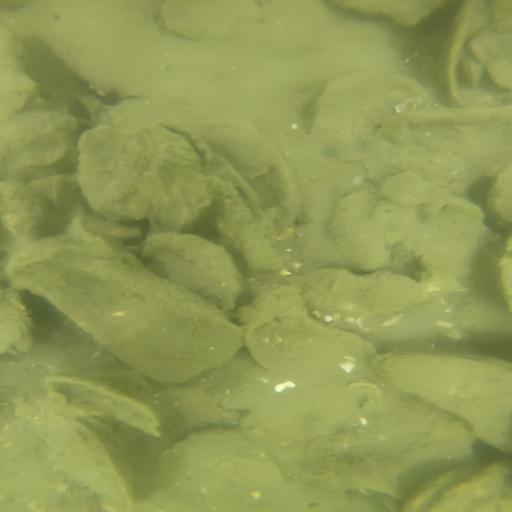Oyster-Closed: (10, 253, 246, 388), (372, 351, 512, 455), (197, 117, 306, 247), (244, 291, 374, 377), (298, 265, 469, 315), (146, 233, 245, 314), (441, 1, 512, 104), (2, 115, 79, 174), (2, 287, 37, 358), (492, 173, 512, 223), (463, 59, 486, 86)
Oyster-Open: (80, 122, 215, 222), (50, 394, 138, 511), (44, 372, 170, 439)
